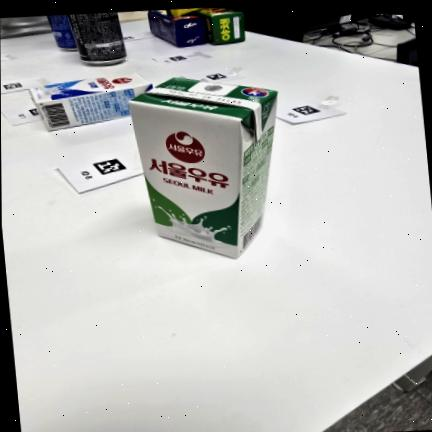milk_blue: (28, 72, 154, 132)
milk_green: (130, 76, 279, 260)
